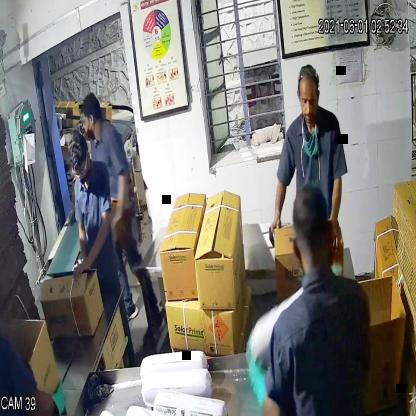goggles: (69, 159, 90, 182)
no_goggles: (293, 88, 323, 110)
